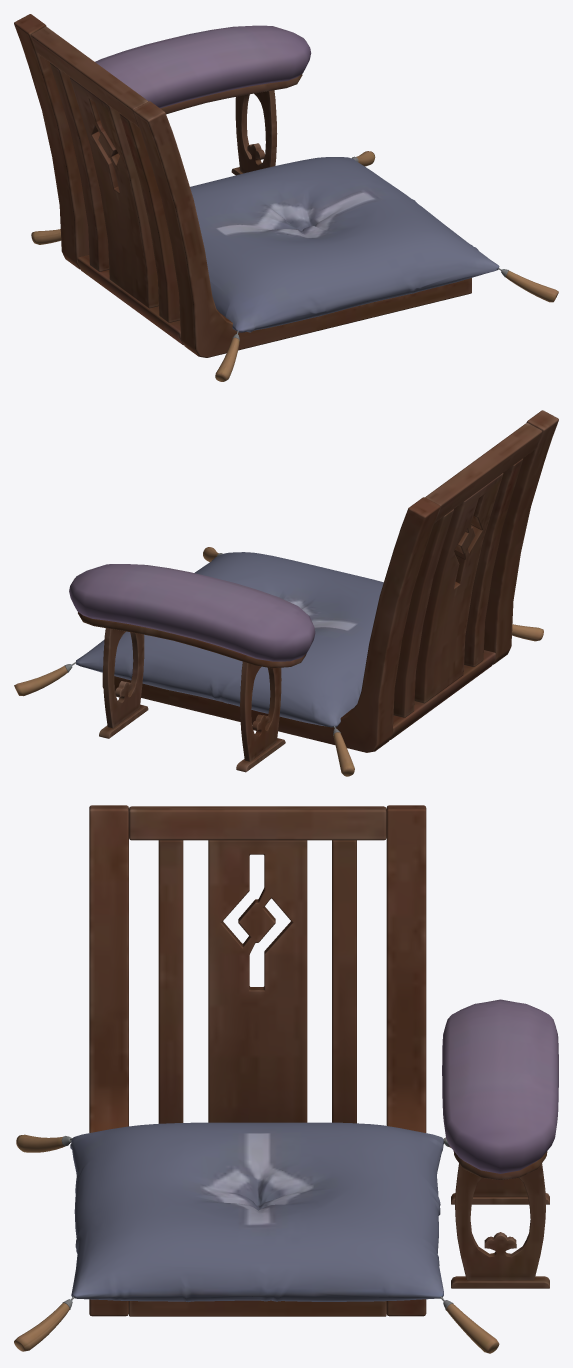
File: SM_FoldingChair_3598bc.glb
3 renders of one model, top to bottom at view 1: azimuth 30°, elevation 25°; view 2: azimuth 150°, elevation 25°; view 3: azimuth 270°, elevation 25°, orthographic. The views are drawn at different scales.
Size of the model in its own units: 1.12 by 0.7173 by 1.1.
2 materials, 2 textured.
